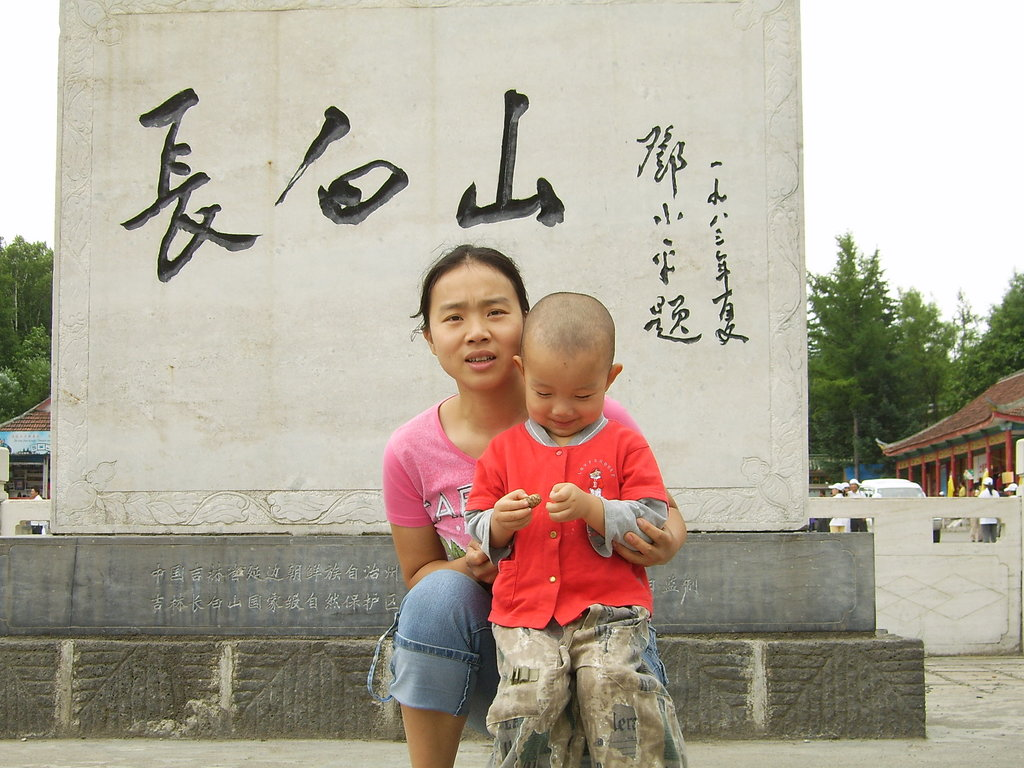Human-face: (429, 268, 522, 388), (527, 360, 609, 435)
